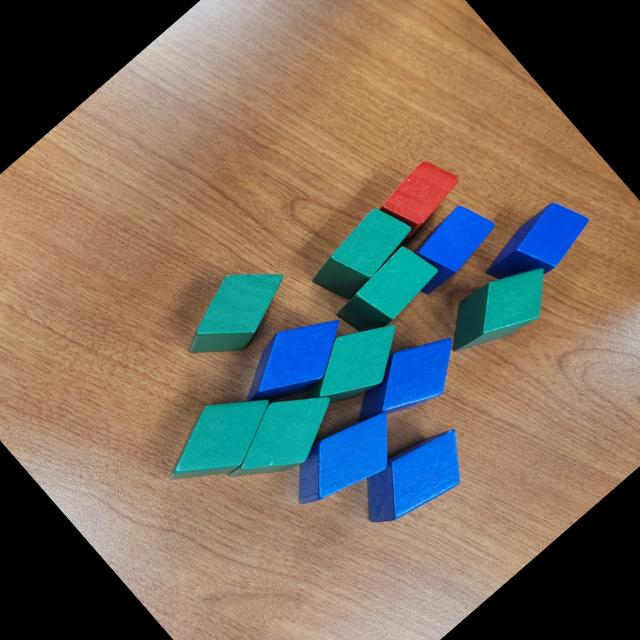blue: (346, 410, 486, 544), (336, 316, 476, 449), (226, 295, 364, 427), (278, 395, 414, 525), (478, 188, 600, 305), (394, 194, 504, 298)
green: (147, 370, 290, 508), (211, 370, 352, 506), (168, 246, 304, 378), (432, 246, 567, 374), (294, 301, 420, 422), (302, 196, 422, 312), (332, 234, 446, 344)
red: (373, 148, 469, 242)
